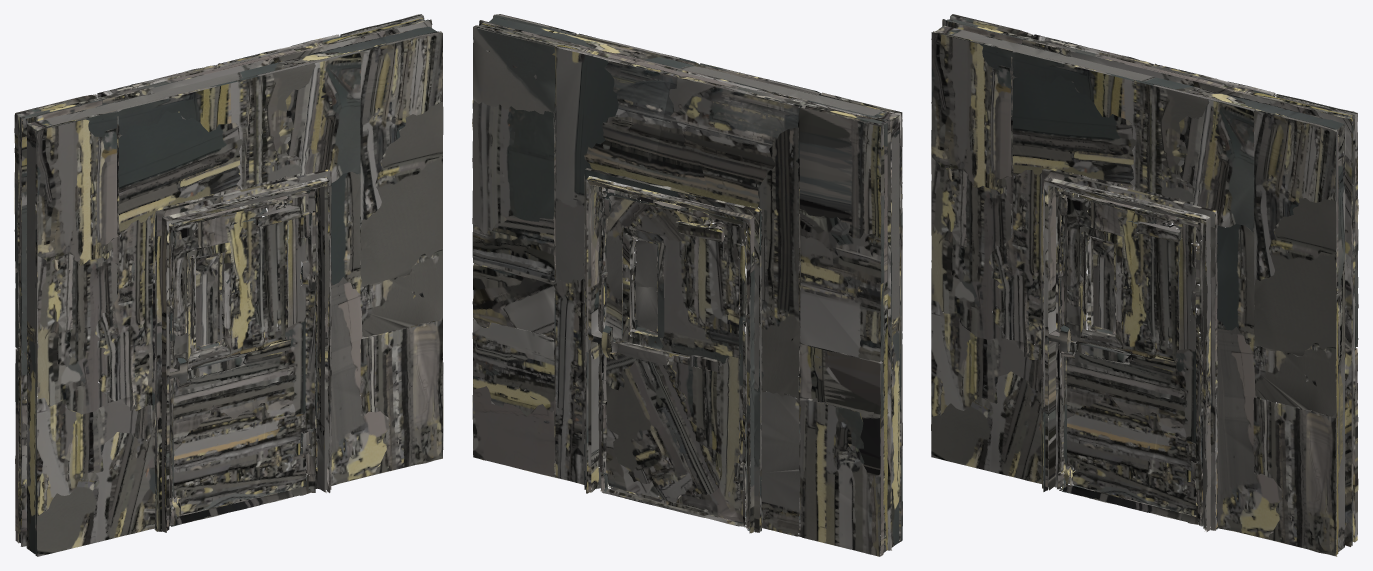
File: Env_FireDoorWall_3m.fbx
The picture shows the model from 3 angles, left to right: view 1: azimuth 30°, elevation 25°; view 2: azimuth 150°, elevation 25°; view 3: azimuth 330°, elevation 25°; orthographic projection.
Parts seen in each view (by area): view 1: texture_mapping; view 2: texture_mapping; view 3: texture_mapping.
Part boxes in pixels (box(x1,y1,x2,y2)): texture_mapping: box(14, 14, 443, 556); texture_mapping: box(472, 14, 902, 556); texture_mapping: box(931, 14, 1358, 556).
Bounding box in the file's own units: 1 × 1 × 0.1711.
